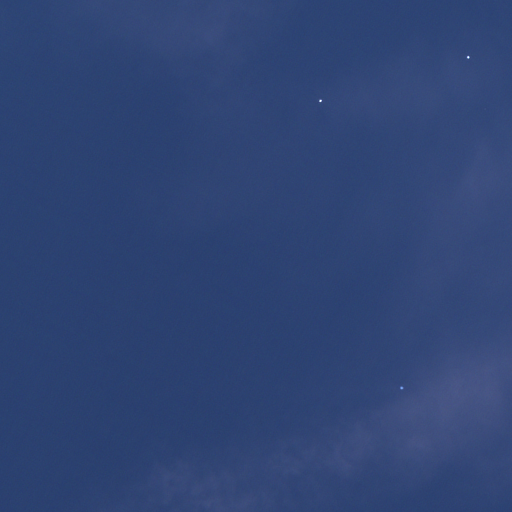Iceberg: (400, 386, 403, 389), (467, 56, 469, 58), (319, 99, 321, 101)
